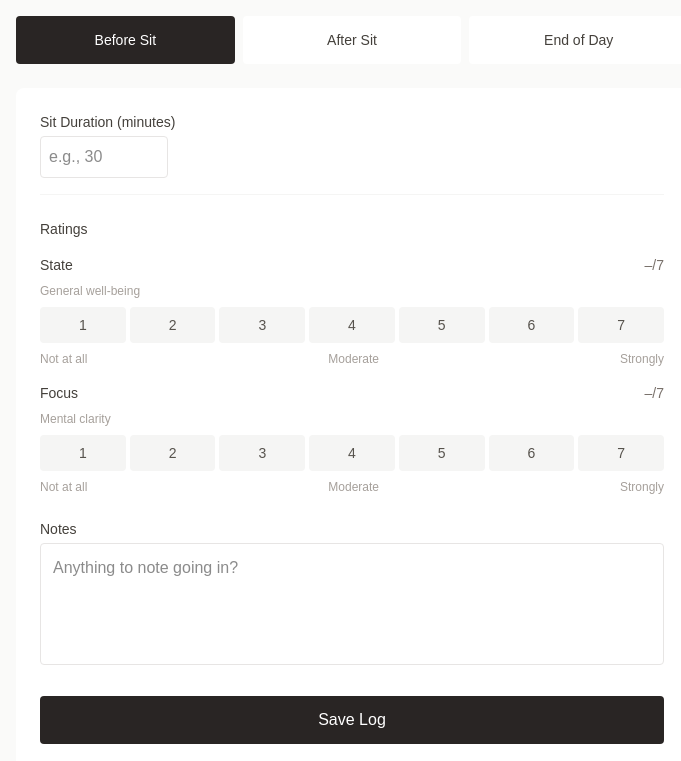
it: LogForm › disables save button while saving
(page scrolled)
Click the button "Save Log": (352, 720) [40,696,664,744]
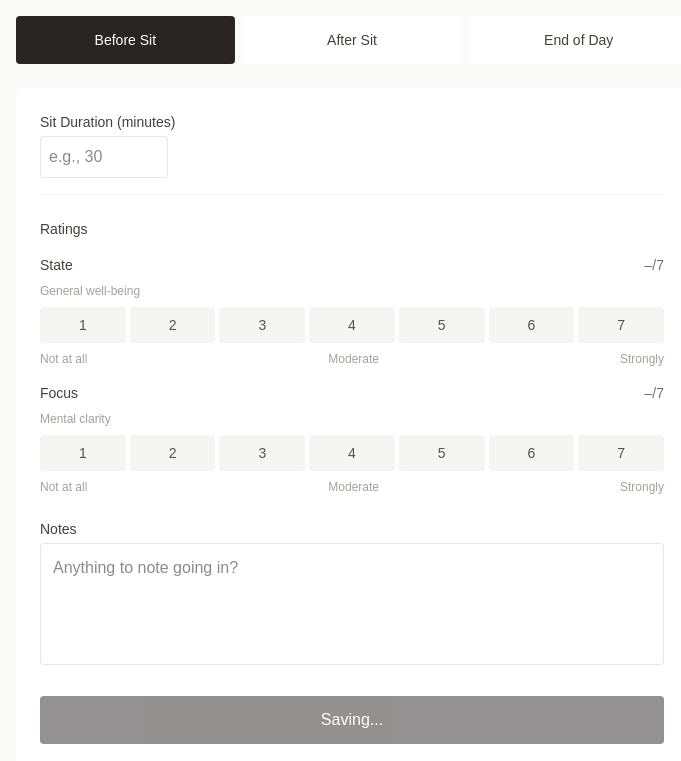
Expected: the button "Saving..." is disabled, [40,696,664,744]
